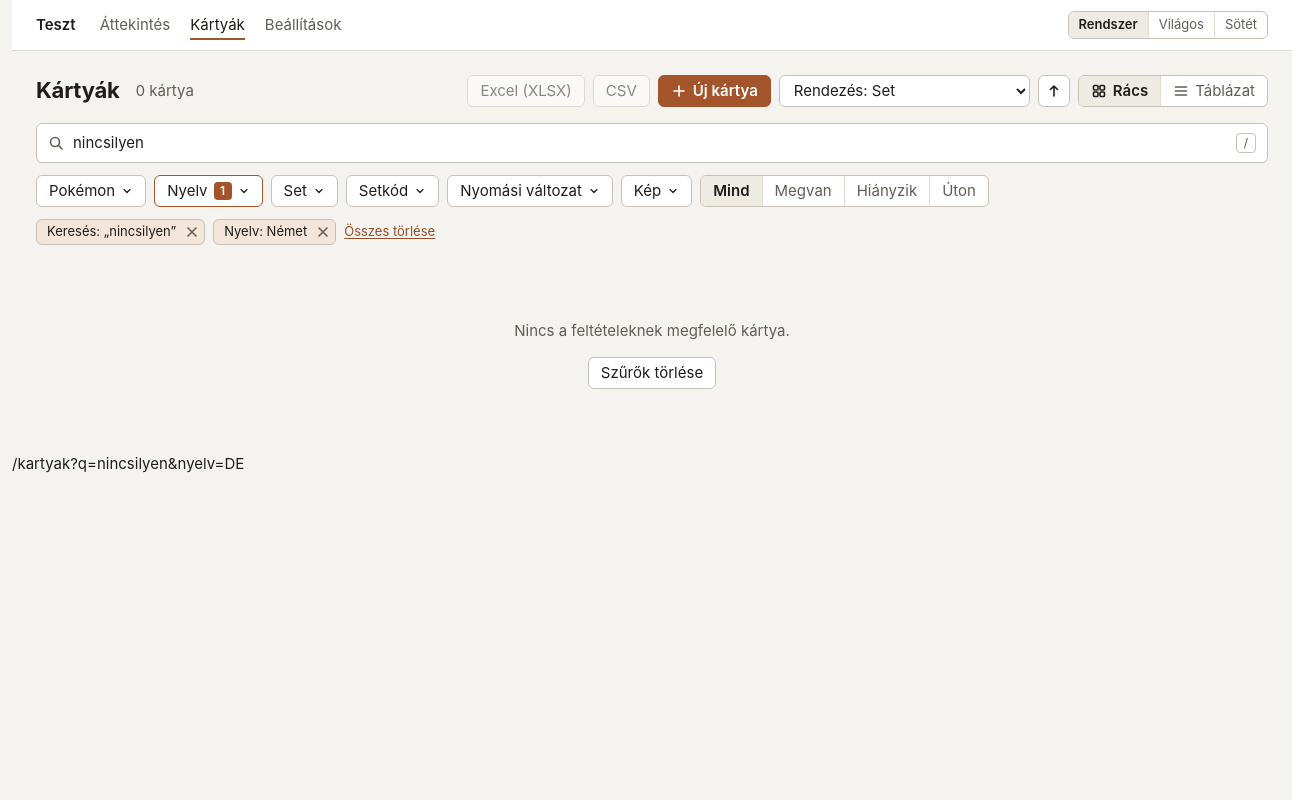
Test: keresés és szűrés (S-12 … S-16) › T-SRC-07 (S-12/EF6): nincs találat, a "Szűrők törlése" visszahoz mindent
Expected: the element with test id "empty-state" shows "Nincs a feltételeknek megfelelő kártya.", [514,321,790,340]
Click the button "Szűrők törlése" at point(652, 372), box [588,356,716,388]
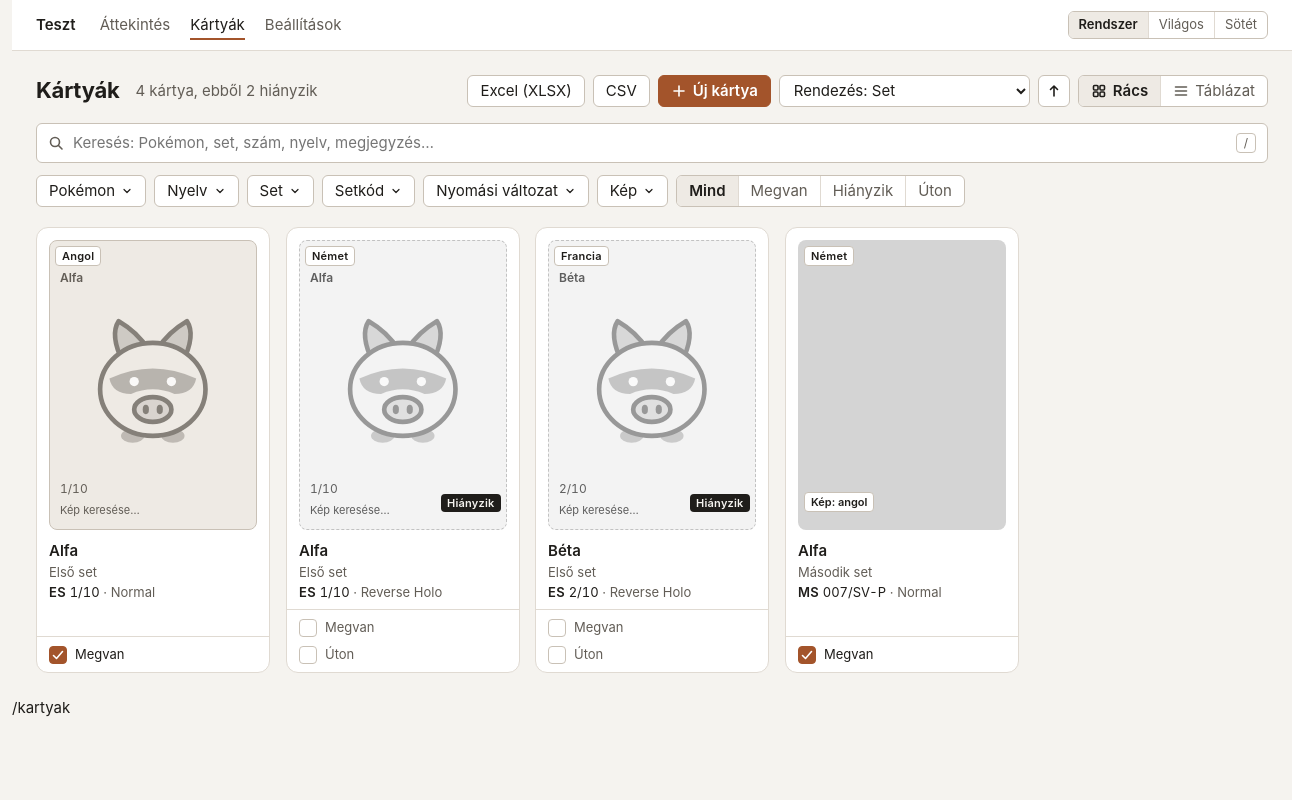
Now the text with test id "location" reads "/kartyak", box [12,698,70,717]
